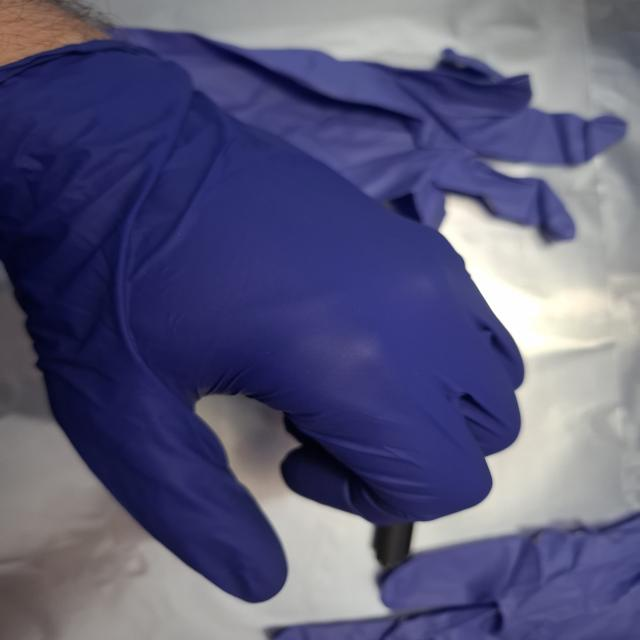glove_on: (0, 34, 530, 610)
